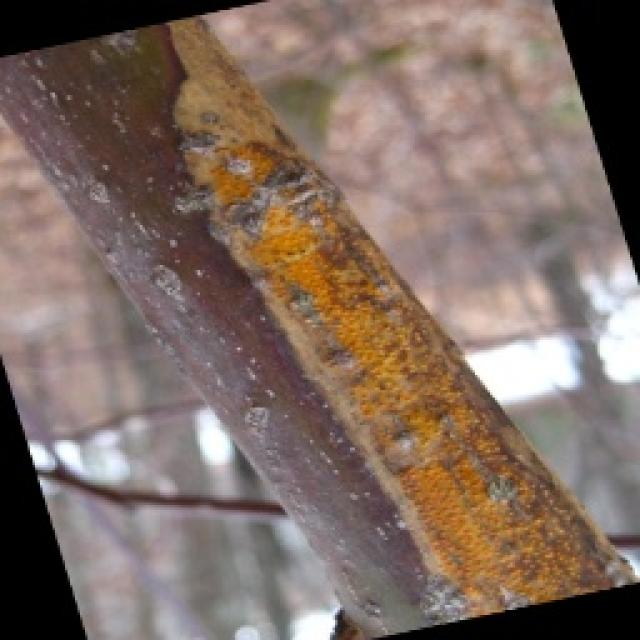Golden_canker: (52, 67, 639, 640)
